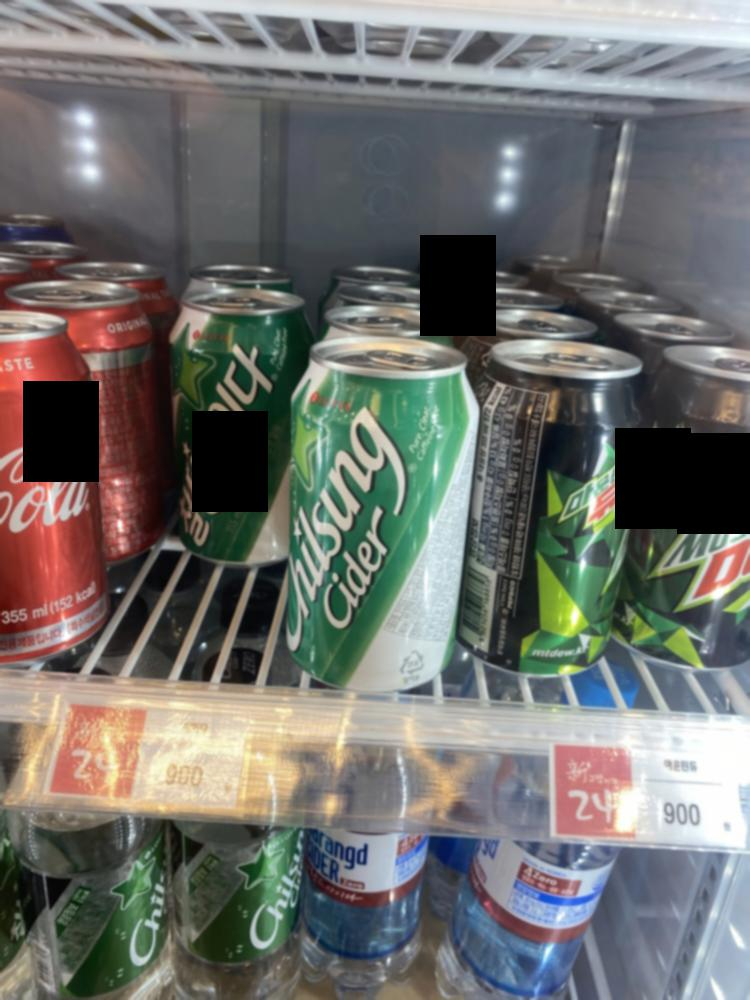chilsungcider: (161, 300, 278, 564)
